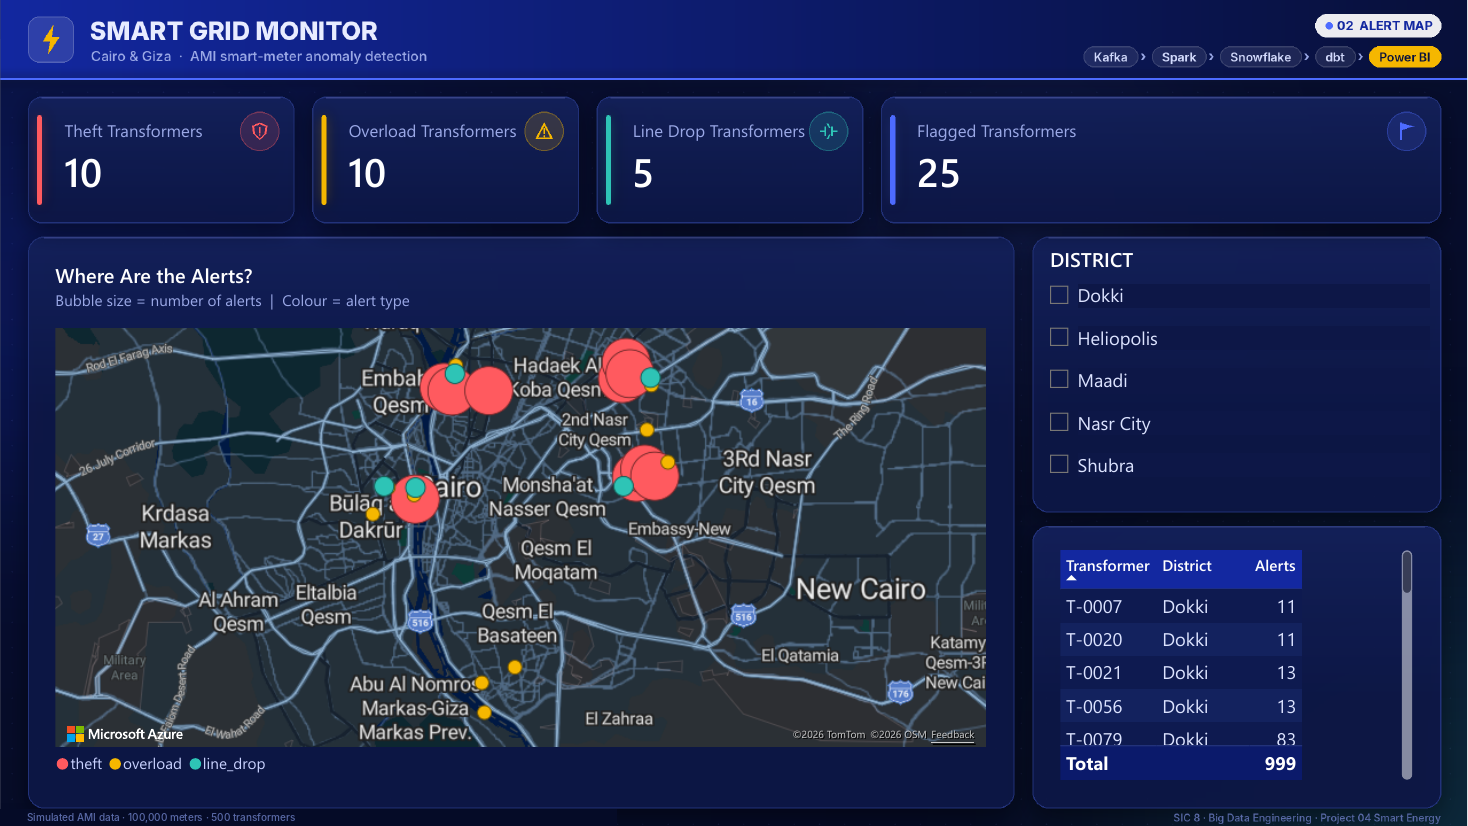

The dashboard page shown, as its layout file describes it:
{"tool":"powerbi","page":{"name":"Alert Map","canvas":[1280,720],"ordinal":1},"visuals":[{"type":"cardVisual","fields":{"Data":["ANOMALY_FLAGS.Theft Transformers"]},"box":[40,88,188,102],"z":0},{"type":"cardVisual","fields":{"Data":["ANOMALY_FLAGS.Overload Transformers"]},"box":[288,88,188,102],"z":1000},{"type":"cardVisual","fields":{"Data":["ANOMALY_FLAGS.Line Drop Transformers"]},"box":[536,88,188,102],"z":2000},{"type":"azureMap","title":"Where Are the Alerts?","fields":{"Series":["ANOMALY_FLAGS.EVENT_TYPE"],"Size":["ANOMALY_FLAGS.Alerts"],"X":["DIM_TRANSFORMERS.LON"],"Y":["DIM_TRANSFORMERS.LAT"]},"box":[32,214,844,482],"z":3001},{"type":"slicer","fields":{"Values":["DIM_TRANSFORMERS.DISTRICT"]},"box":[908,214,340,224],"z":3002},{"type":"tableEx","fields":{"Values":["DIM_TRANSFORMERS.TRANSFORMER_ID","DIM_TRANSFORMERS.DISTRICT","ANOMALY_FLAGS.Alerts"]},"box":[908,466,340,230],"z":3003},{"type":"cardVisual","fields":{"Data":["ANOMALY_FLAGS.Flagged Transformers"]},"box":[784,88,444,102],"z":3004}]}

Visuals, with their boxes in screenshot pixels (x1, y1, x2, y2), scaled from the page's 1280x720 canvas onto the 1468x826 screenshot:
cardVisual - ANOMALY_FLAGS.Theft Transformers: l=46, t=101, r=261, b=218
cardVisual - ANOMALY_FLAGS.Overload Transformers: l=330, t=101, r=546, b=218
cardVisual - ANOMALY_FLAGS.Line Drop Transformers: l=615, t=101, r=830, b=218
"Where Are the Alerts?" azureMap: l=37, t=246, r=1005, b=798
slicer - DIM_TRANSFORMERS.DISTRICT: l=1041, t=246, r=1431, b=502
tableEx - DIM_TRANSFORMERS.TRANSFORMER_ID x DIM_TRANSFORMERS.DISTRICT: l=1041, t=535, r=1431, b=798
cardVisual - ANOMALY_FLAGS.Flagged Transformers: l=899, t=101, r=1408, b=218
